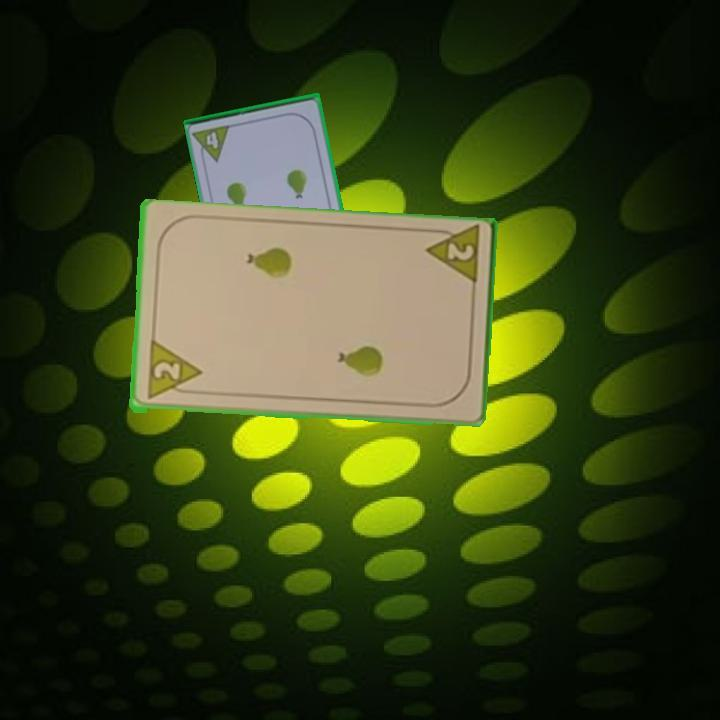2p: (142, 340, 204, 404), (443, 240, 477, 264)
4p: (190, 121, 234, 166)
